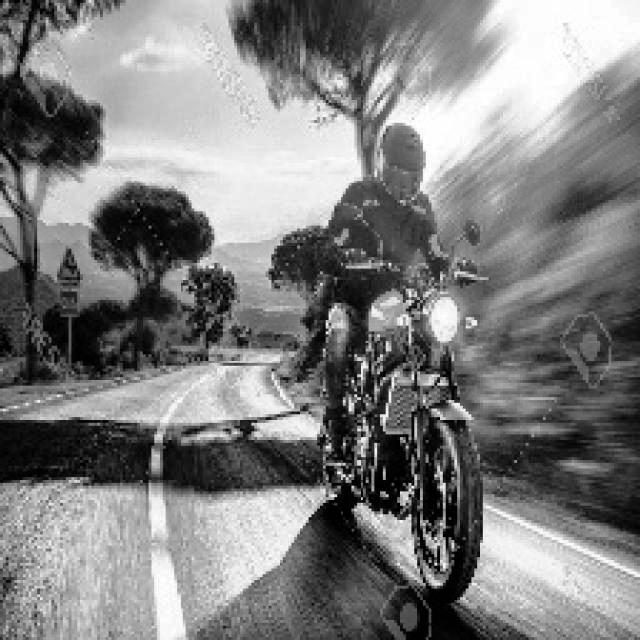Bike: (336, 278, 504, 626)
